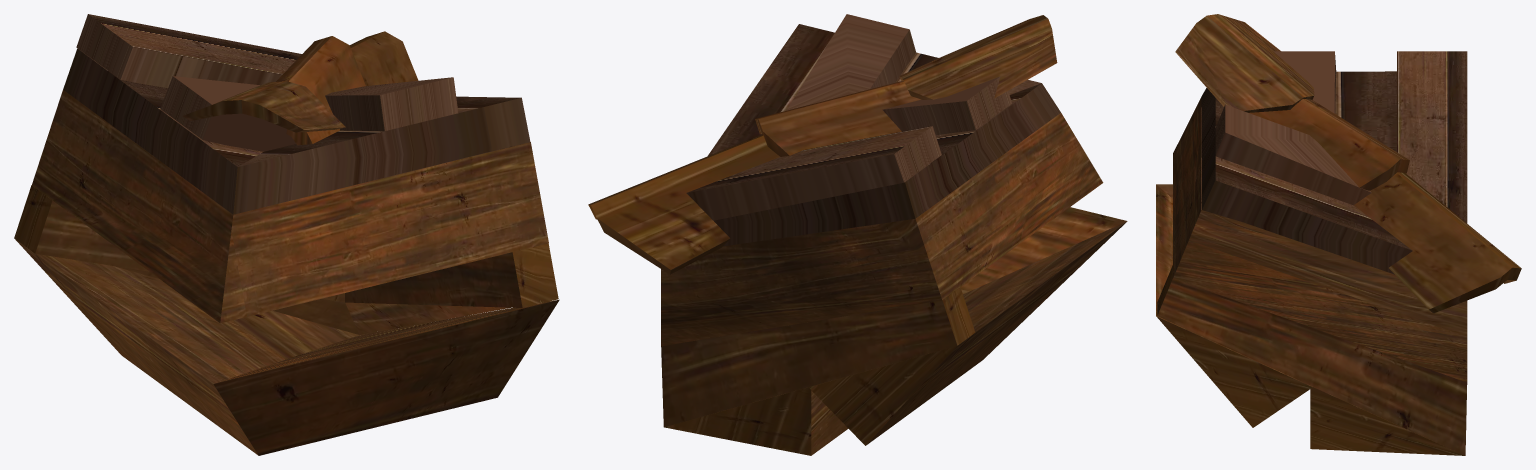
3 renders of one model, left to right at view 1: azimuth 30°, elevation 25°; view 2: azimuth 150°, elevation 25°; view 3: azimuth 270°, elevation 25°, orthographic. The views are drawn at different scales.
Parts seen in each view (by area): view 1: SM_BB_T2_Roof_Small_Valley_Shallow_LOD0; view 2: SM_BB_T2_Roof_Small_Valley_Shallow_LOD0; view 3: SM_BB_T2_Roof_Small_Valley_Shallow_LOD0.
Boxes of the visible parts, x1,y1,x2,y2 form: SM_BB_T2_Roof_Small_Valley_Shallow_LOD0: (14, 14, 559, 455); SM_BB_T2_Roof_Small_Valley_Shallow_LOD0: (588, 14, 1127, 455); SM_BB_T2_Roof_Small_Valley_Shallow_LOD0: (1156, 14, 1521, 455).
Bounding box in the file's own units: 1.09 × 1.08 × 1.08.
2 materials, 2 textured.
